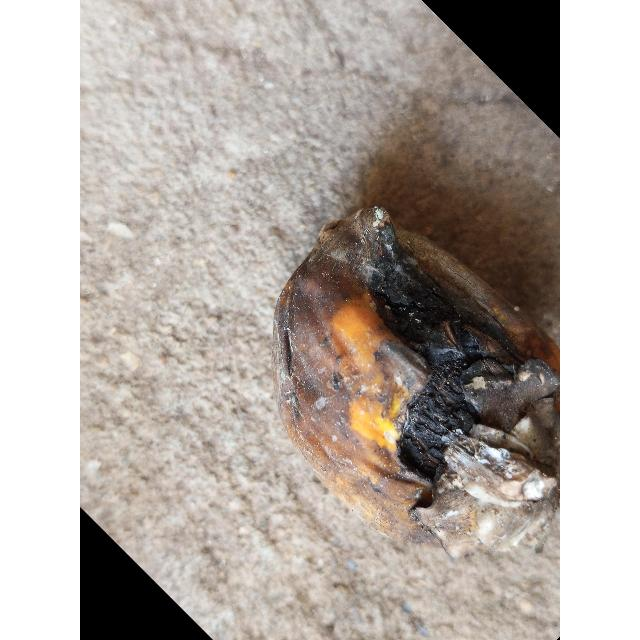damaged: (273, 207, 560, 558)
